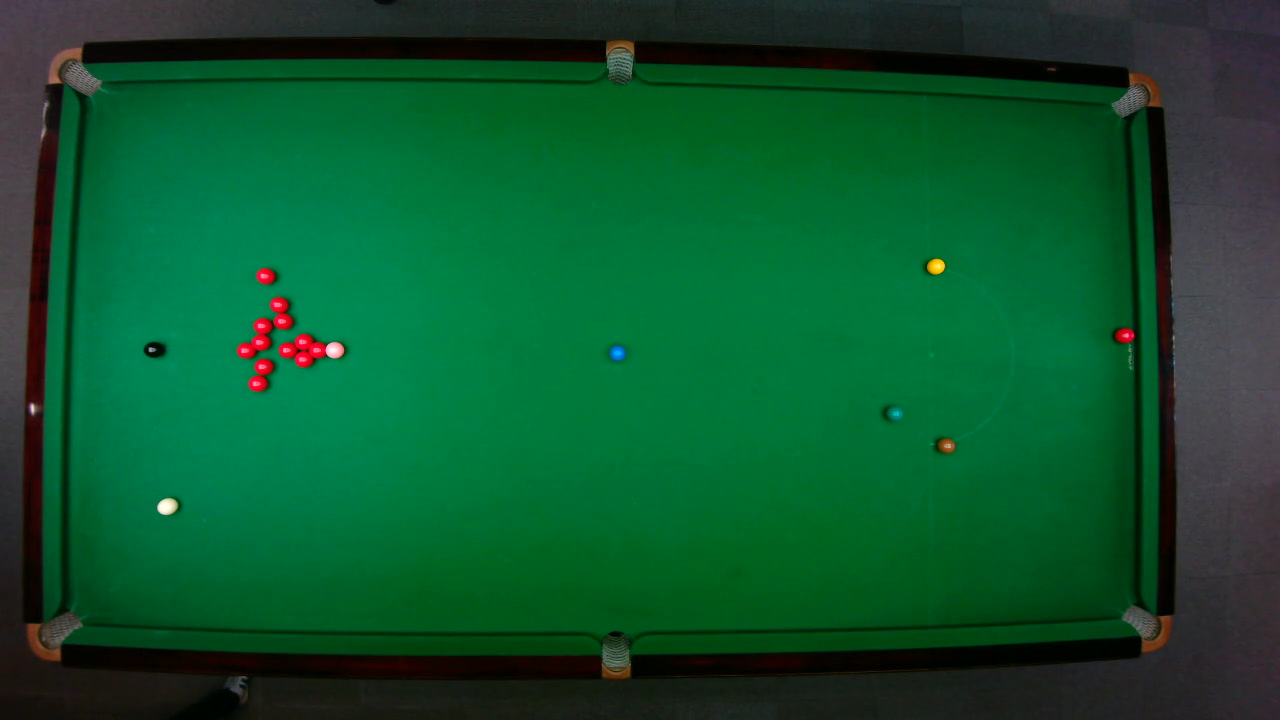bag: (25, 609, 83, 661), (46, 46, 101, 96), (1119, 603, 1171, 652), (1108, 71, 1161, 118), (600, 629, 630, 679), (605, 38, 633, 85)
black: (142, 340, 163, 358)
blue: (607, 343, 626, 361)
brown: (935, 436, 956, 453)
green: (883, 404, 904, 421)
pink: (323, 340, 345, 359)
red: (234, 340, 256, 358), (252, 357, 274, 375), (251, 316, 273, 334), (246, 374, 268, 392), (268, 295, 289, 313), (254, 267, 276, 284), (1113, 326, 1135, 343), (277, 340, 297, 358), (293, 350, 314, 367), (272, 312, 293, 329), (249, 333, 270, 350), (293, 332, 313, 349), (307, 340, 325, 358)
white: (155, 496, 179, 515)
yellow: (925, 256, 946, 274)
zone: (926, 262, 1013, 444)
